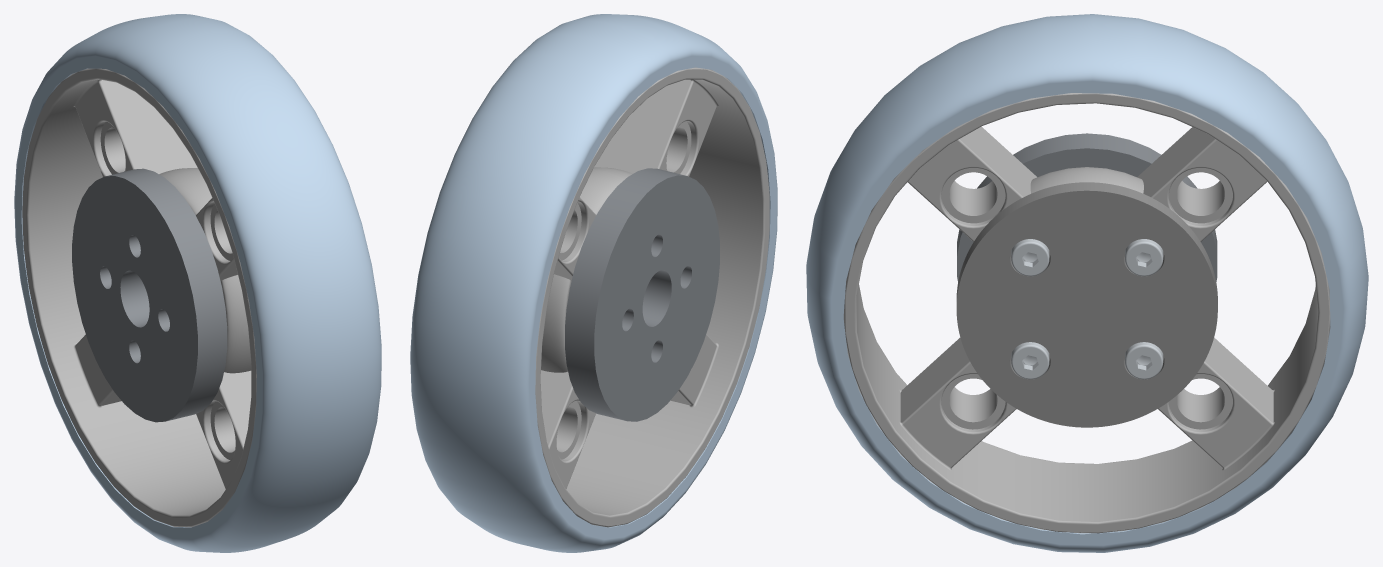
File: main_wheel.dae
3 views of the same model, side by side, from view 1: azimuth 30°, elevation 25°; view 2: azimuth 150°, elevation 25°; view 3: azimuth 270°, elevation 25° (orthographic). The views are drawn at different scales.
Parts seen in each view (by area): view 1: Object.002; view 2: Object.002; view 3: Object.002.
Boxes of the visible parts, x1,y1,x2,y2 form: Object.002: [14, 14, 381, 552]; Object.002: [410, 14, 777, 552]; Object.002: [806, 14, 1368, 552].
Size of the model in its own units: 0.0145 by 0.0559 by 0.0559.
